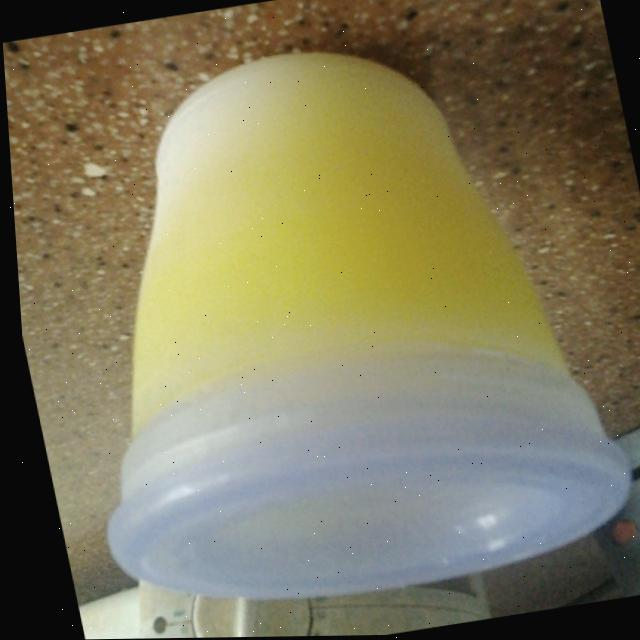蛋糕甜品: (1, 7, 640, 640)
